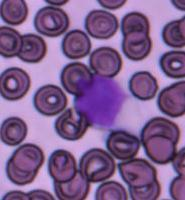L: (74, 74, 128, 130)
